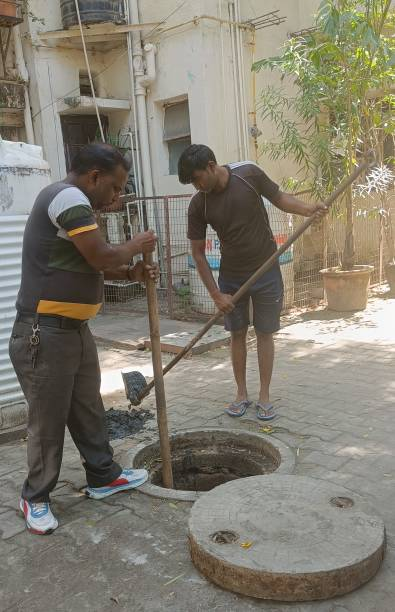open_manhole: (135, 427, 315, 496)
